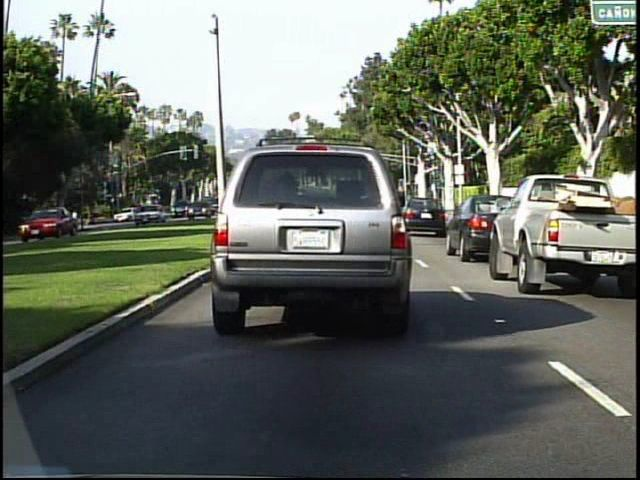person: (68, 205, 82, 231)
